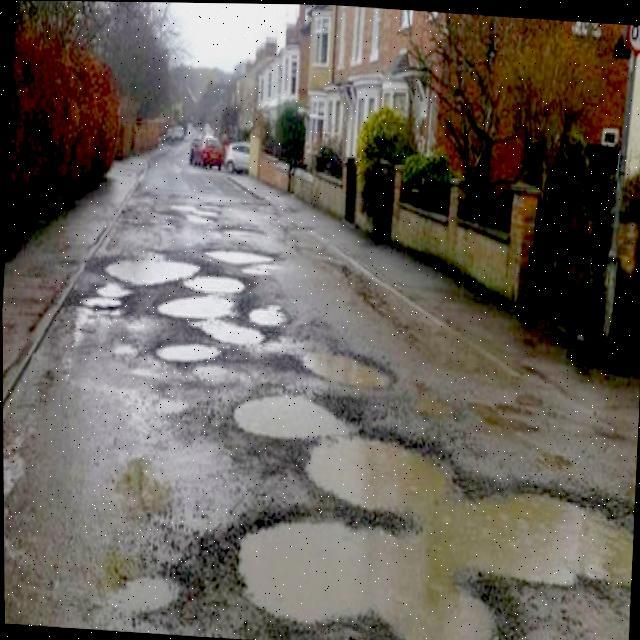pothole: (215, 383, 640, 640), (149, 282, 293, 344), (292, 337, 398, 397), (150, 328, 224, 378), (99, 249, 200, 285), (204, 238, 281, 273), (74, 274, 134, 314)
